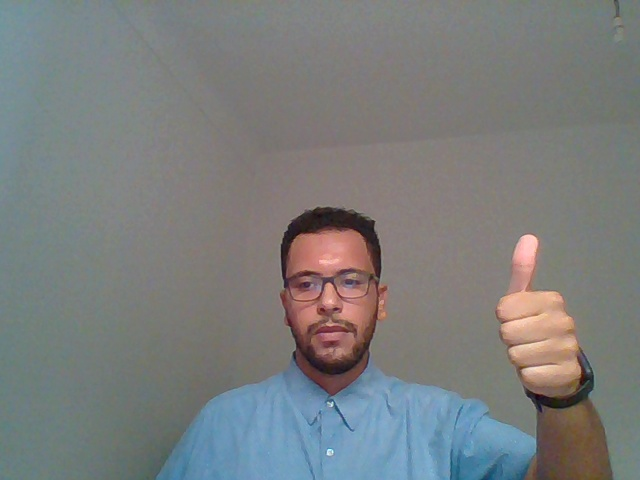ok: (462, 214, 602, 470)
